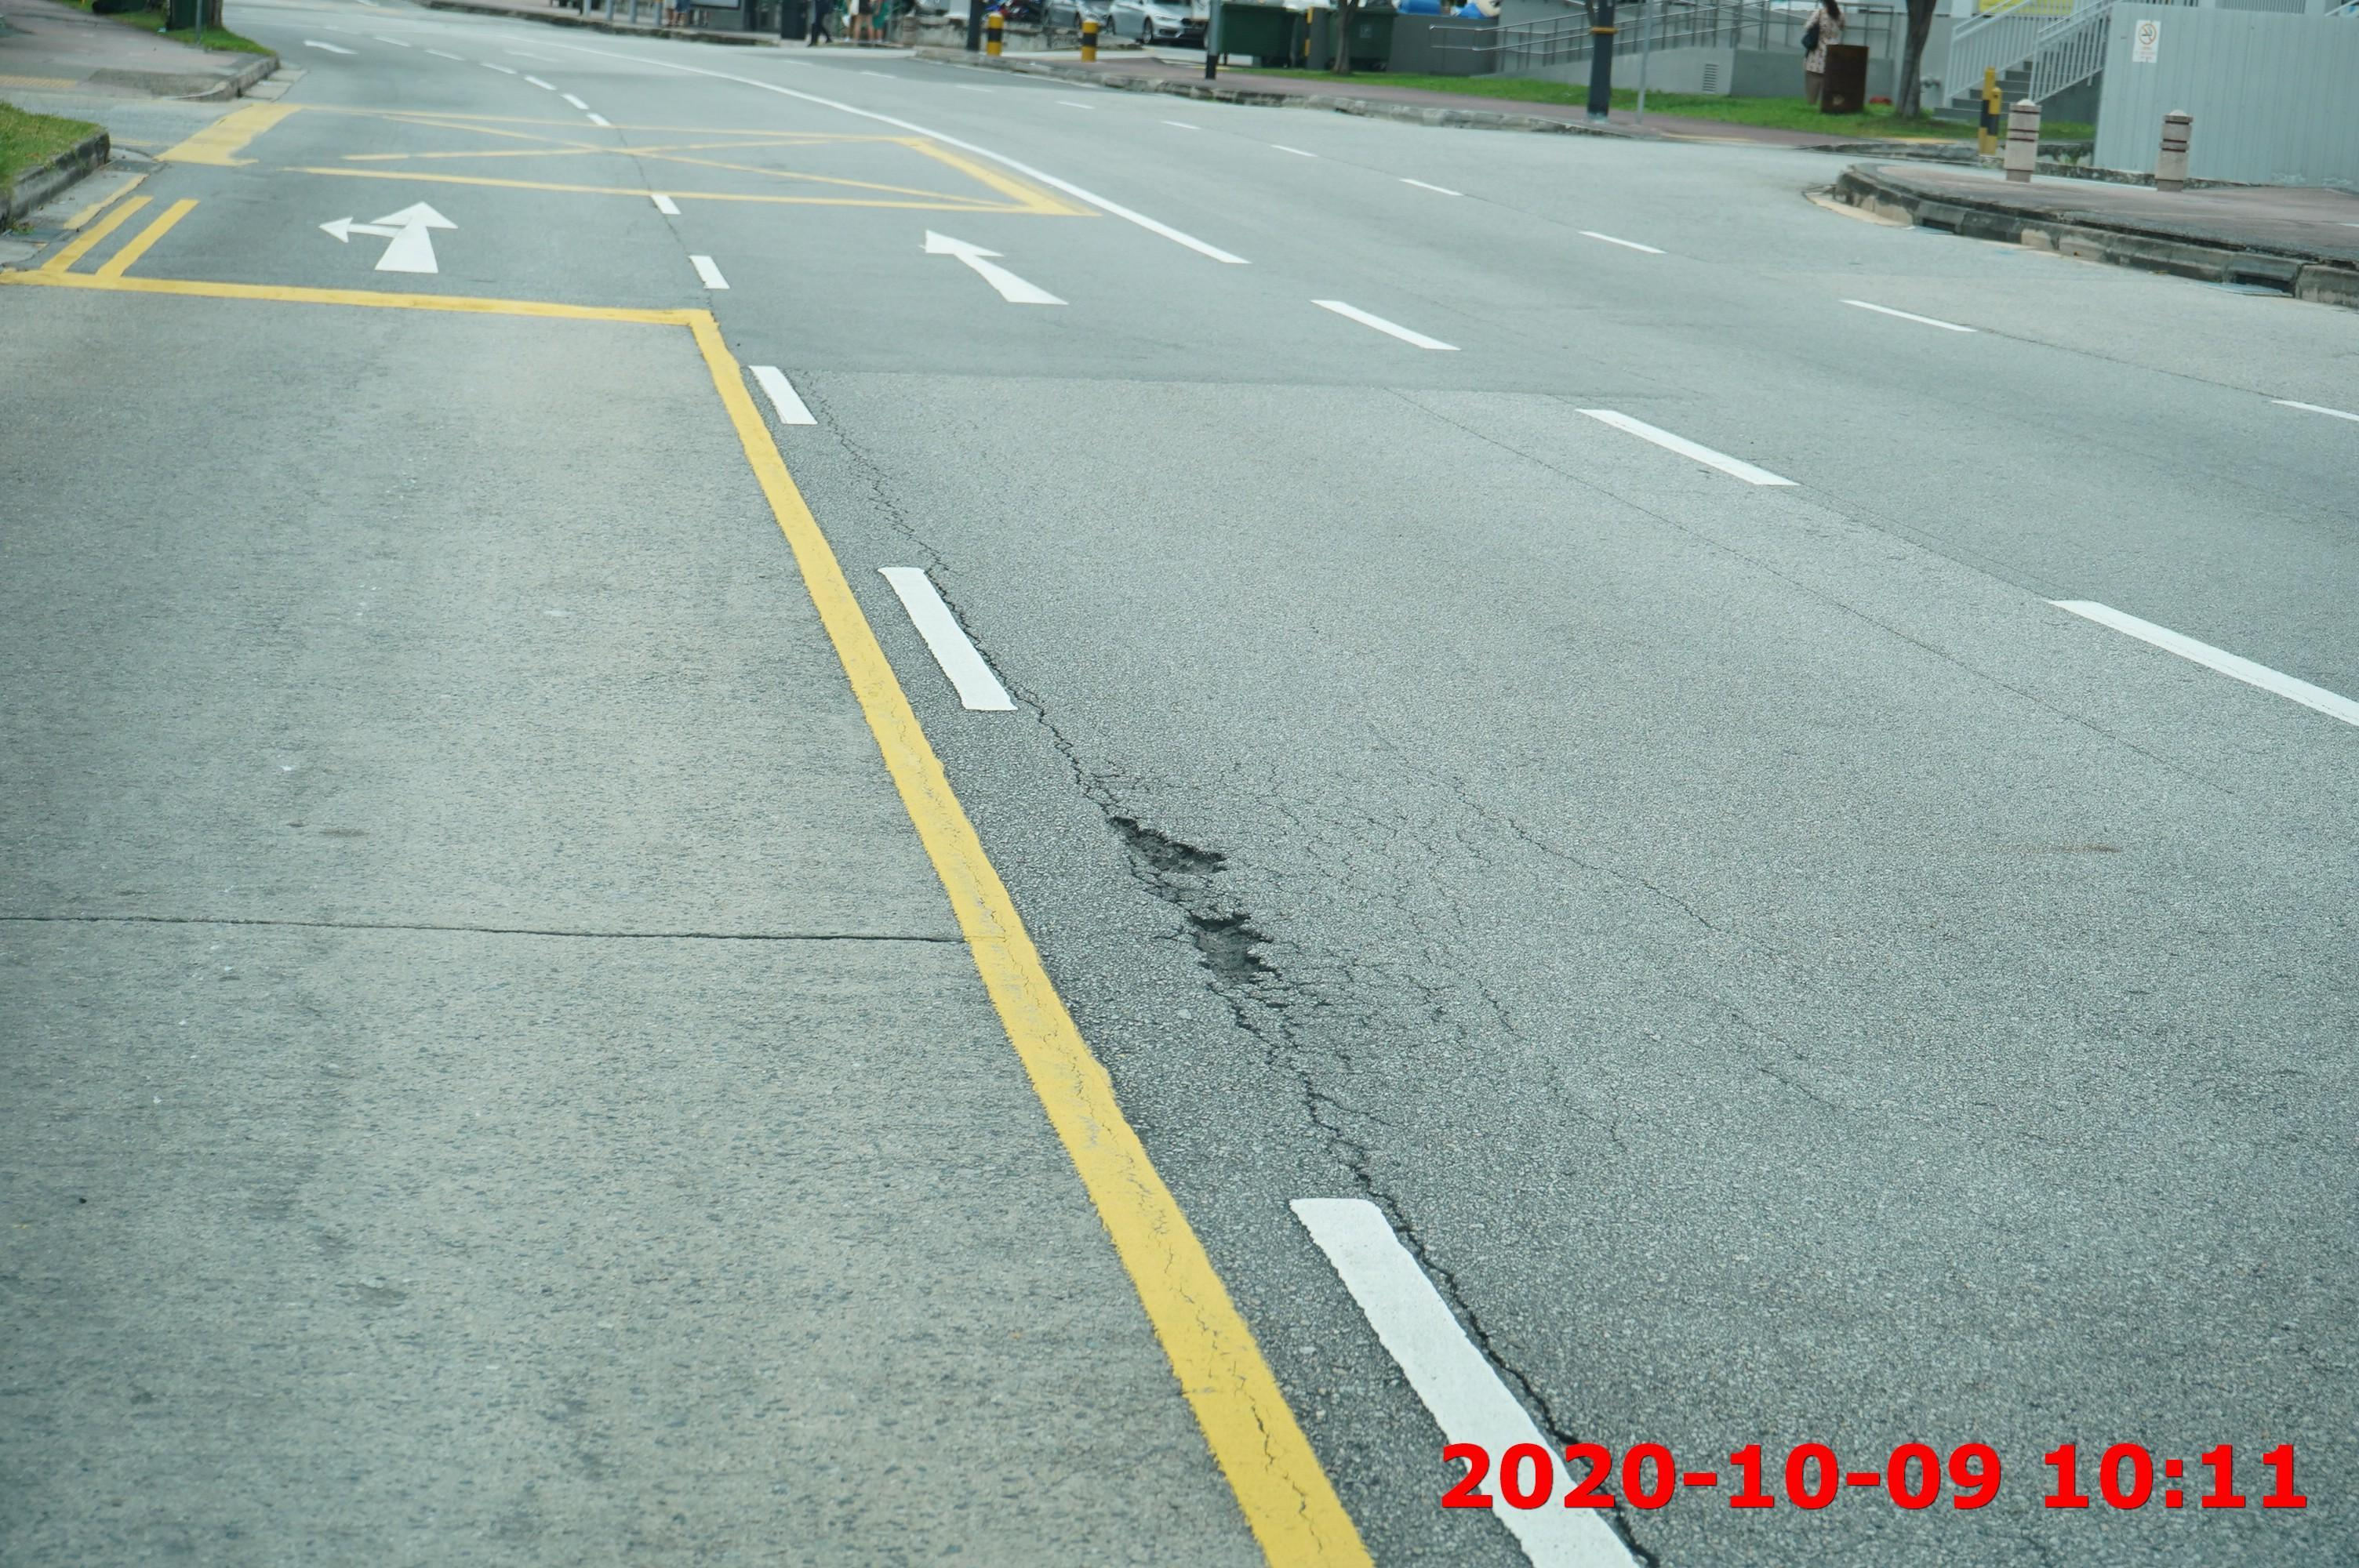peel off with cracks: (1071, 741, 1445, 1064)
transverse crack: (5, 880, 965, 967)
